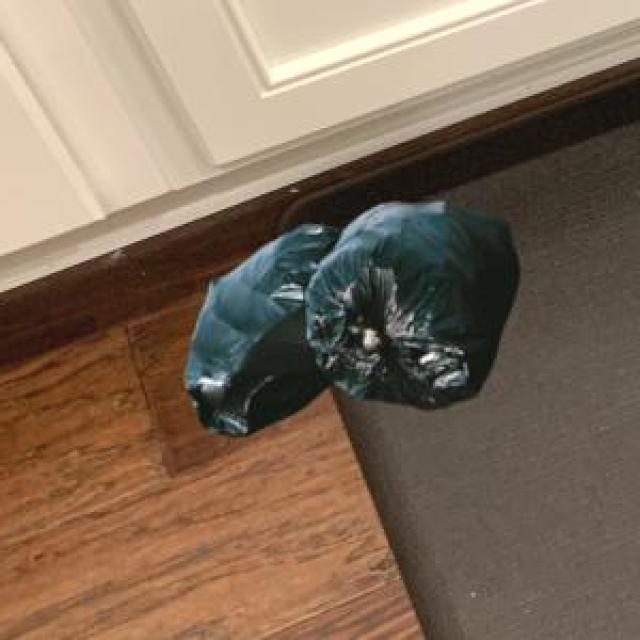Trashbag: (297, 202, 531, 418), (173, 217, 331, 443)
